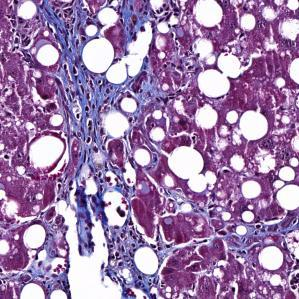fibrosis: (54, 59, 147, 186)
